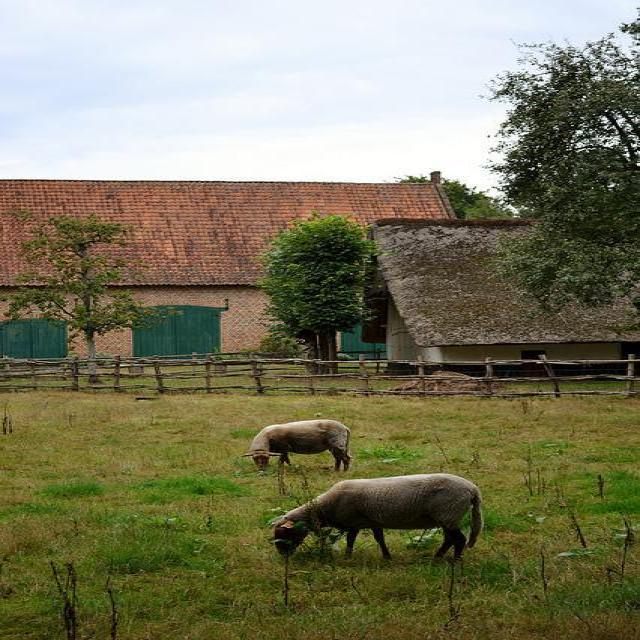Sheep: (274, 473, 486, 563), (240, 420, 354, 473)
